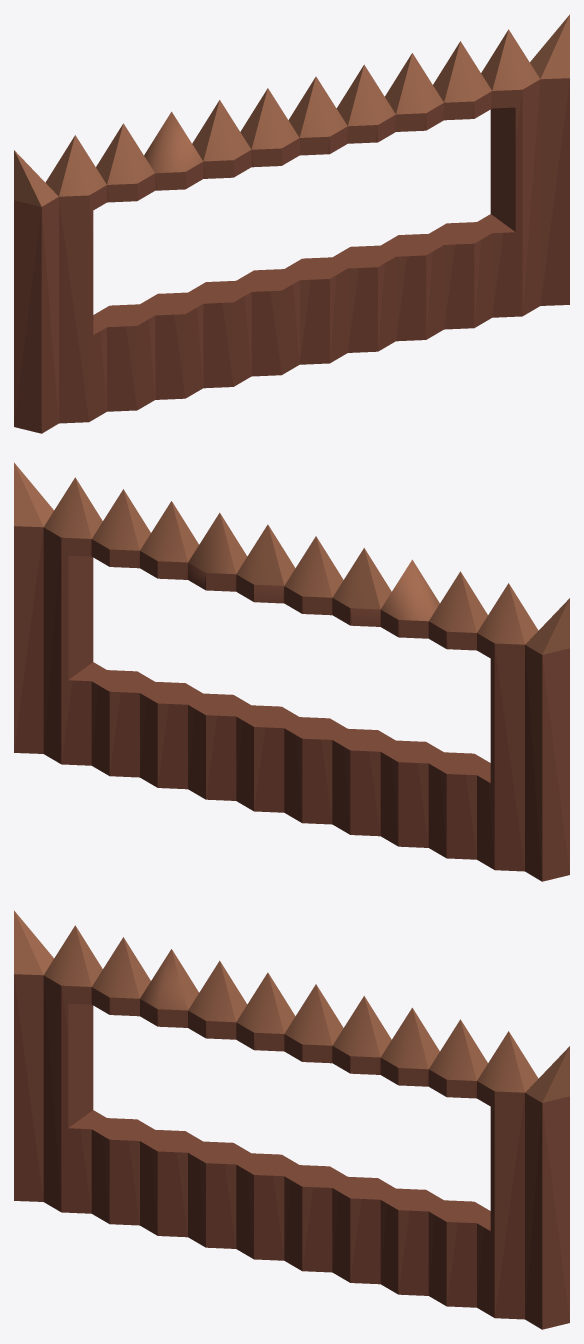
The model's file is fence.glb.
The picture shows the model from 3 angles, top to bottom: view 1: azimuth 30°, elevation 25°; view 2: azimuth 150°, elevation 25°; view 3: azimuth 330°, elevation 25°; orthographic projection.
Parts seen in each view (by area): view 1: fence_wood_straight; view 2: fence_wood_straight; view 3: fence_wood_straight.
Boxes of the visible parts, <box> form: fence_wood_straight: <box>14,14,569,433</box>; fence_wood_straight: <box>14,462,569,881</box>; fence_wood_straight: <box>14,910,569,1329</box>.
Size of the model in its own units: 1.15 by 0.55 by 0.1.
